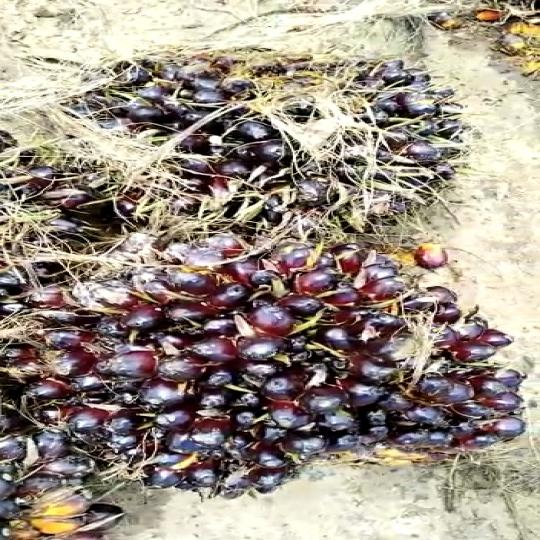mentah: (0, 245, 534, 501), (44, 39, 475, 247)
